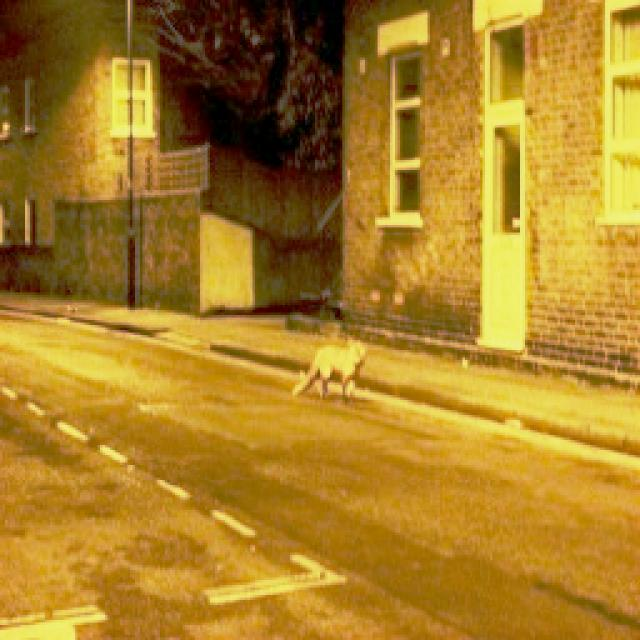cat: (291, 342, 374, 406)
